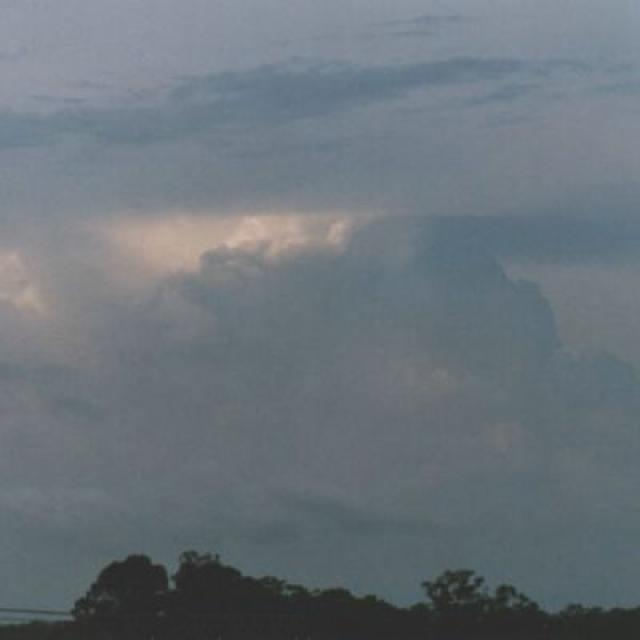St: (4, 76, 640, 480)
